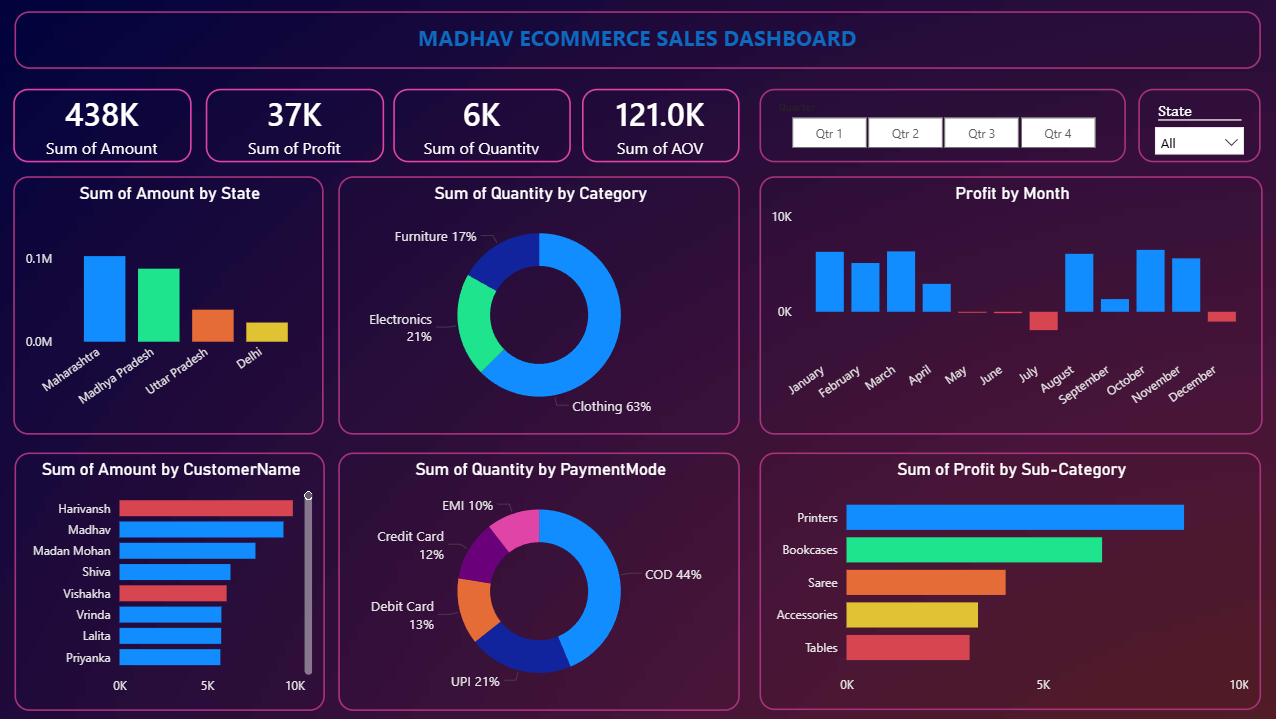

What the dashboard file says about the page in this screenshot:
{"tool":"powerbi","page":{"name":"Page 1","canvas":[1280,720],"ordinal":0},"visuals":[{"type":"textbox","box":[17.5,11.2,1246.2,57.5],"z":0},{"type":"columnChart","title":"Profit by Month","fields":{"Y":["Details.Profit"],"Category":["Orders.Order Date.Variation.Date Hierarchy.Month"]},"box":[762.5,176.1,503.1,258.2],"z":1000},{"type":"barChart","fields":{"Category":["Details.Sub-Category"],"Y":["Details.Profit"]},"box":[762.5,452.5,501.2,257.5],"z":2000},{"type":"donutChart","fields":{"Y":["Details.Quantity"],"Category":["Details.PaymentMode"]},"box":[341.4,452.4,401.7,258.2],"z":3000},{"type":"donutChart","fields":{"Category":["Details.Category"],"Y":["Details.Quantity"]},"box":[341.4,176.1,401.7,258.2],"z":4000},{"type":"columnChart","fields":{"Category":["Orders.State"],"Y":["Details.Amount"]},"box":[16.2,176.2,310,258.5],"z":5000},{"type":"barChart","fields":{"Category":["Orders.CustomerName"],"Y":["Details.Amount"]},"box":[16.9,452.4,310.1,258.2],"z":6000},{"type":"slicer","fields":{"Values":["Orders.Order Date.Variation.Date Hierarchy.Quarter"]},"box":[762.5,88.8,366.2,73.8],"z":7000},{"type":"slicer","fields":{"Values":["Orders.State"]},"box":[1141.2,88.8,122.5,73.8],"z":8000},{"type":"cardVisual","fields":{"Data":["Details.Amount"]},"box":[16.2,88.8,178.8,73.8],"z":9000},{"type":"cardVisual","fields":{"Data":["Details.Profit"]},"box":[208.8,88.8,178.8,73.8],"z":9001},{"type":"cardVisual","fields":{"Data":["Details.Quantity"]},"box":[396.2,88.8,177.5,73.8],"z":9002},{"type":"cardVisual","fields":{"Data":["Details.AOV"]},"box":[585,88.8,157.5,73.8],"z":9003}]}

Visuals, with their boxes in screenshot pixels (x1, y1, x2, y2), scaled from the page's 1280x720 canvas onto the 1276x719 screenshot:
textbox: crop(17, 11, 1260, 69)
"Profit by Month" columnChart: crop(760, 176, 1262, 434)
barChart - Details.Sub-Category x Details.Profit: crop(760, 452, 1260, 709)
donutChart - Details.Quantity x Details.PaymentMode: crop(340, 452, 741, 710)
donutChart - Details.Category x Details.Quantity: crop(340, 176, 741, 434)
columnChart - Orders.State x Details.Amount: crop(16, 176, 325, 434)
barChart - Orders.CustomerName x Details.Amount: crop(17, 452, 326, 710)
slicer - Orders.Order Date.Variation.Date Hierarchy.Quarter: crop(760, 89, 1125, 162)
slicer - Orders.State: crop(1138, 89, 1260, 162)
cardVisual - Details.Amount: crop(16, 89, 194, 162)
cardVisual - Details.Profit: crop(208, 89, 386, 162)
cardVisual - Details.Quantity: crop(395, 89, 572, 162)
cardVisual - Details.AOV: crop(583, 89, 740, 162)
